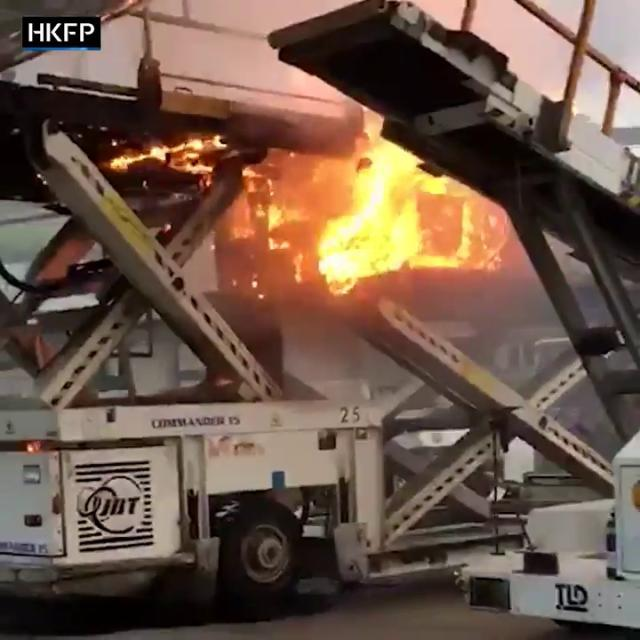Fire: (274, 123, 484, 290), (111, 133, 226, 174)
